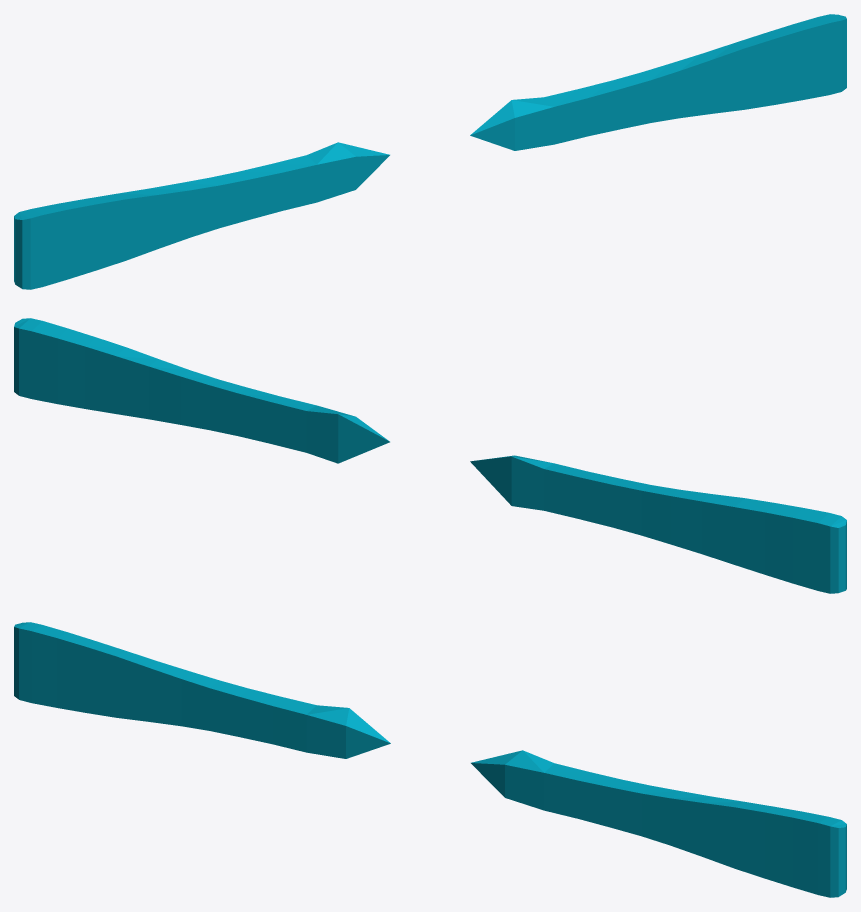
The model's file is BR_Deoxys-Shiny05.obj.
The picture shows the model from 3 angles, top to bottom: view 1: azimuth 30°, elevation 25°; view 2: azimuth 150°, elevation 25°; view 3: azimuth 330°, elevation 25°; orthographic projection.
Parts seen in each view (by area): view 1: deoxys_def; view 2: deoxys_def; view 3: deoxys_def.
Part boxes in pixels (bbox=[...]): deoxys_def: bbox=[14, 14, 846, 289]; deoxys_def: bbox=[14, 318, 846, 593]; deoxys_def: bbox=[14, 622, 846, 897].
Size of the model in its own units: 31.99 by 2.65 by 0.7647.
1 material, 1 textured.
